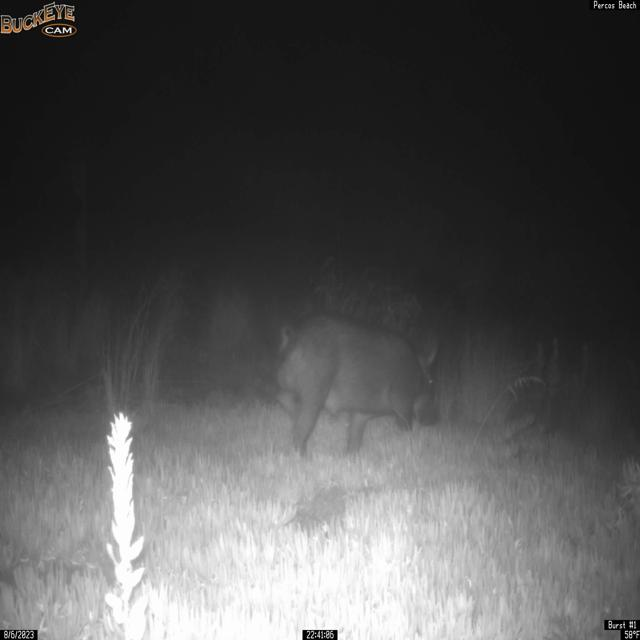pig: (274, 313, 441, 460)
